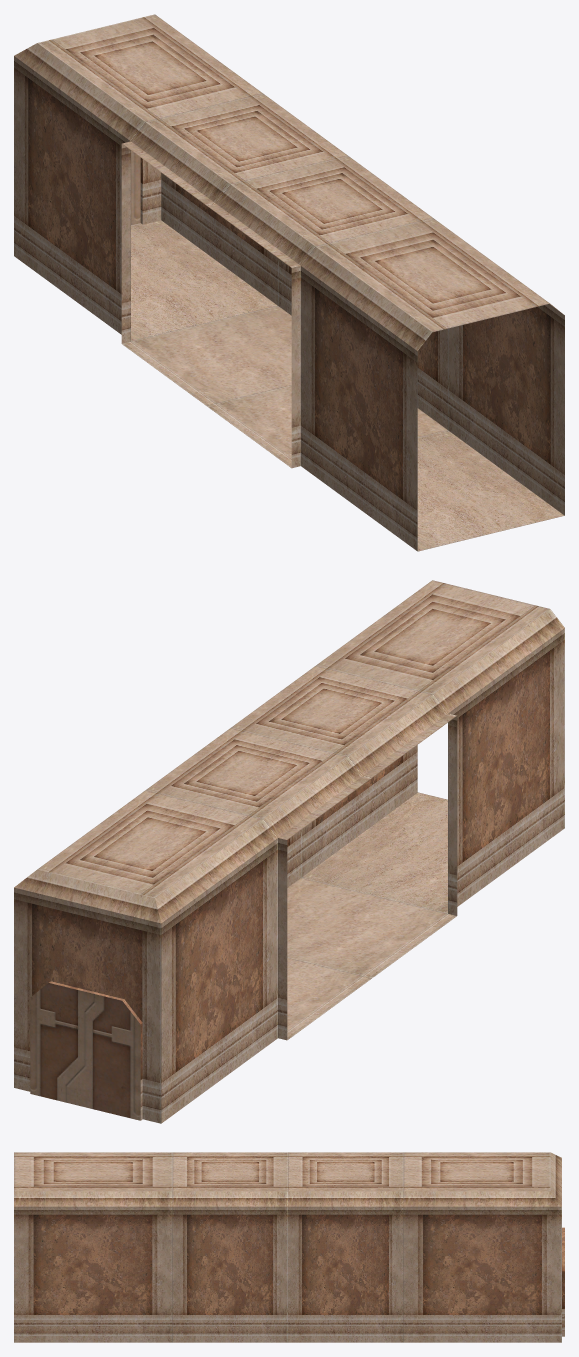
The model's file is thm_nboo_thed_emp_retreat_r10_hall5_mesh_r10.fbx.
3 renders of one model, top to bottom at view 1: azimuth 30°, elevation 25°; view 2: azimuth 150°, elevation 25°; view 3: azimuth 270°, elevation 25°, orthographic. The views are drawn at different scales.
Parts seen in each view (by area): view 1: mesh_node; view 2: mesh_node; view 3: mesh_node.
Boxes of the visible parts, left/top/right/bottom form: mesh_node: left=14, top=14, right=564, bottom=551; mesh_node: left=14, top=580, right=564, bottom=1123; mesh_node: left=14, top=1152, right=564, bottom=1342.
Size of the model in its own units: 4.25 by 5.6 by 19.1.
